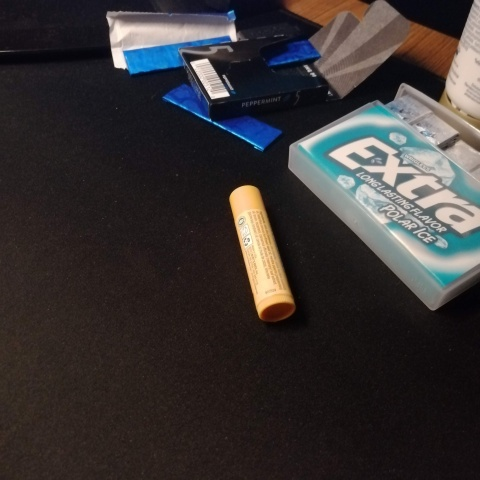chapstick: (225, 181, 298, 324)
